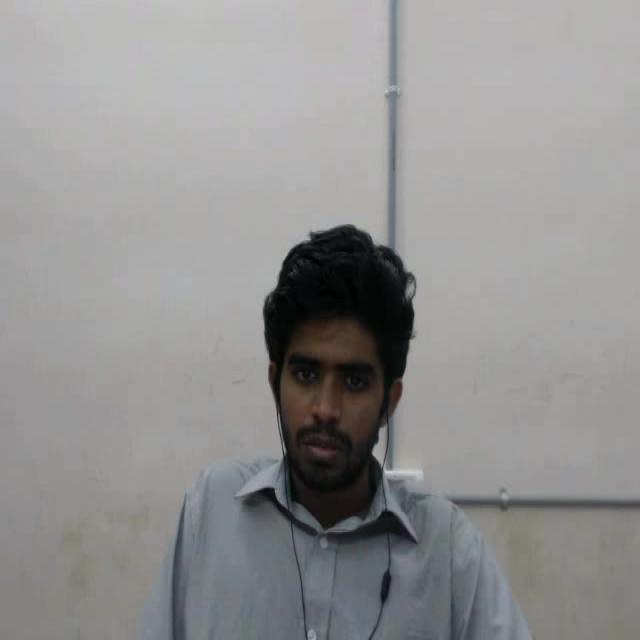Engaged: (250, 197, 440, 501)
